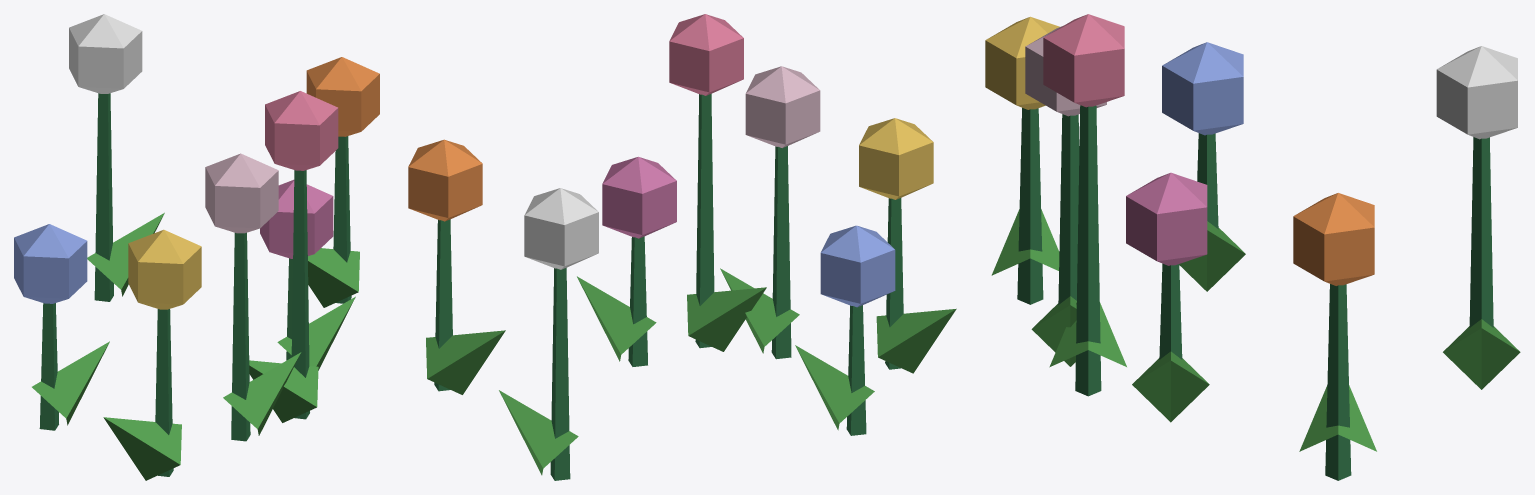
The model's file is prop_flowers.glb.
3 views of the same model, side by side, from view 1: azimuth 30°, elevation 25°; view 2: azimuth 150°, elevation 25°; view 3: azimuth 270°, elevation 25° (orthographic). The views are drawn at different scales.
Visible parts, largest first — view 1: prop_flowers; view 2: prop_flowers; view 3: prop_flowers.
Part boxes in pixels (x1=…): prop_flowers: x1=14, y1=14, x2=379, y2=480; prop_flowers: x1=408, y1=14, x2=956, y2=480; prop_flowers: x1=985, y1=14, x2=1520, y2=480.
Bounding box in the file's own units: 0.426 × 0.3235 × 0.4118.
